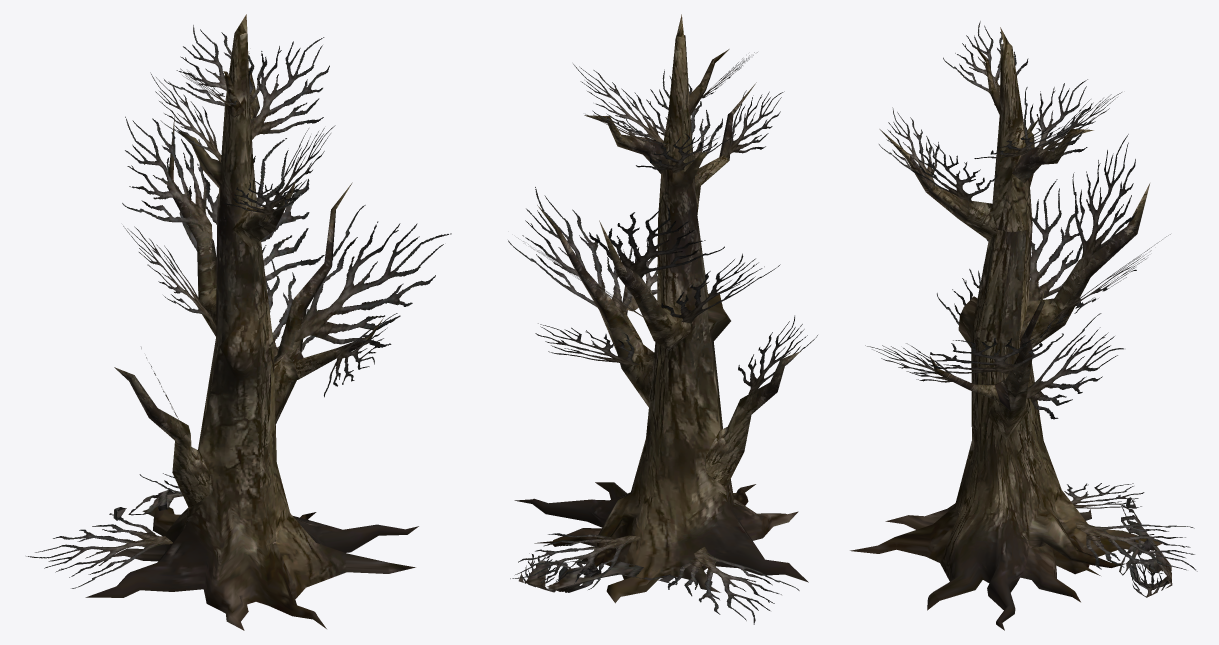
Rendered from environment_Tree_kushu_05_a.FBX.
The picture shows the model from 3 angles, left to right: view 1: azimuth 30°, elevation 25°; view 2: azimuth 150°, elevation 25°; view 3: azimuth 270°, elevation 25°; orthographic projection. The views are drawn at different scales.
Visible parts, largest first — view 1: environment_Tree_kushu_05_a, environment_Tree_kushu_05_b; view 2: environment_Tree_kushu_05_a, environment_Tree_kushu_05_b; view 3: environment_Tree_kushu_05_a, environment_Tree_kushu_05_b.
Part boxes in pixels (x1,y1,x2,y2): environment_Tree_kushu_05_a: (85, 14, 418, 630); environment_Tree_kushu_05_b: (26, 25, 451, 588); environment_Tree_kushu_05_a: (514, 14, 808, 603); environment_Tree_kushu_05_b: (508, 52, 817, 624); environment_Tree_kushu_05_a: (850, 27, 1162, 630); environment_Tree_kushu_05_b: (865, 21, 1197, 597).
Size of the model in its own units: 124 by 196 by 118.
2 materials, 2 textured.
